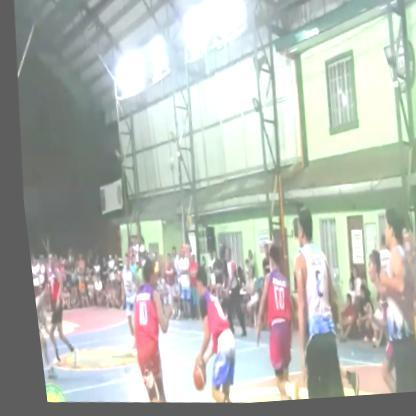basketball: (178, 351, 204, 397)
